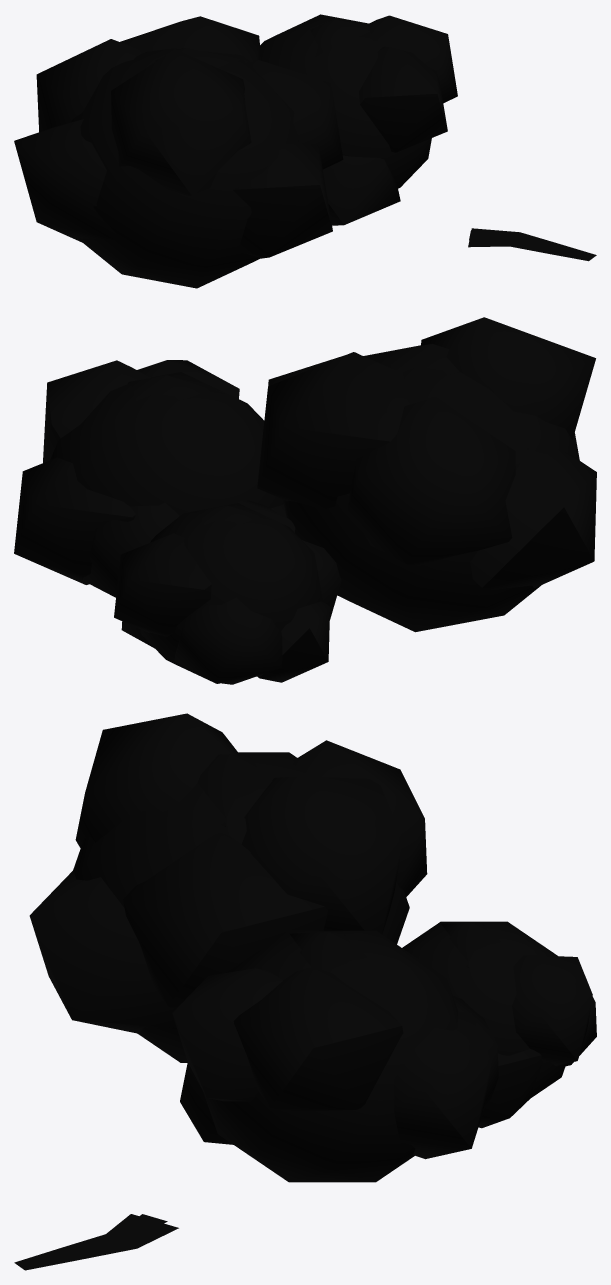
File: LavaBombs.fbx
The picture shows the model from 3 angles, top to bottom: view 1: azimuth 30°, elevation 25°; view 2: azimuth 150°, elevation 25°; view 3: azimuth 270°, elevation 25°; orthographic projection. The views are drawn at different scales.
Visible parts, largest first — view 1: LavaBombs; view 2: LavaBombs; view 3: LavaBombs.
Part boxes in pixels (x1,y1,x2,y2): LavaBombs: (14,14,596,288); LavaBombs: (14,317,596,684); LavaBombs: (14,713,596,1270).
Size of the model in its own units: 1.63 by 0.8131 by 1.32.
Materials: 2 (2 with a texture image).
